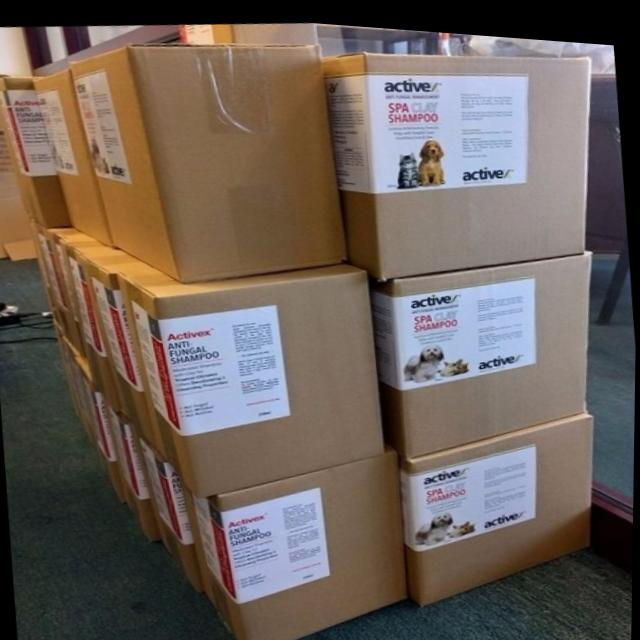box: (64, 38, 345, 276), (323, 45, 595, 278), (132, 253, 384, 496), (361, 244, 594, 456), (182, 440, 409, 640), (394, 397, 593, 602), (35, 67, 116, 245), (137, 427, 203, 595), (0, 76, 69, 226), (91, 254, 152, 422), (118, 263, 171, 451), (107, 402, 159, 541), (83, 244, 126, 408), (69, 238, 109, 389), (56, 230, 102, 359), (44, 220, 81, 348), (589, 111, 627, 233), (28, 217, 61, 331), (588, 224, 627, 315), (93, 382, 122, 500), (177, 18, 319, 41), (64, 340, 91, 441), (600, 234, 633, 315), (54, 329, 83, 420), (80, 355, 101, 458), (592, 64, 618, 112)
